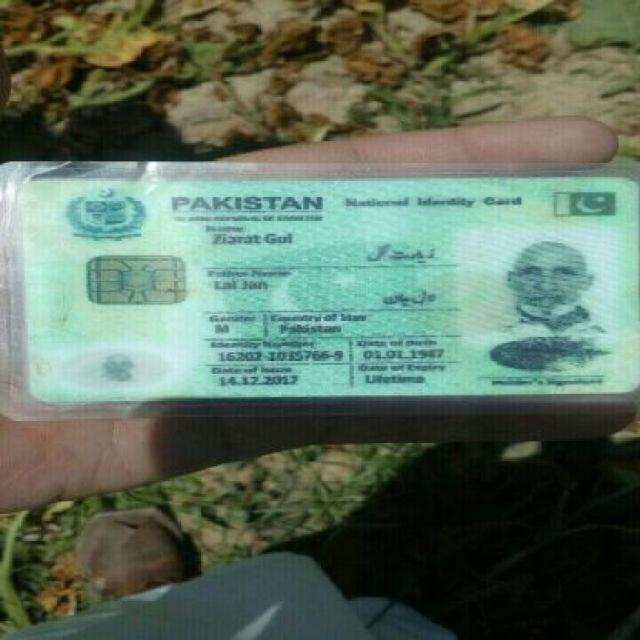Front: (8, 168, 634, 408)
